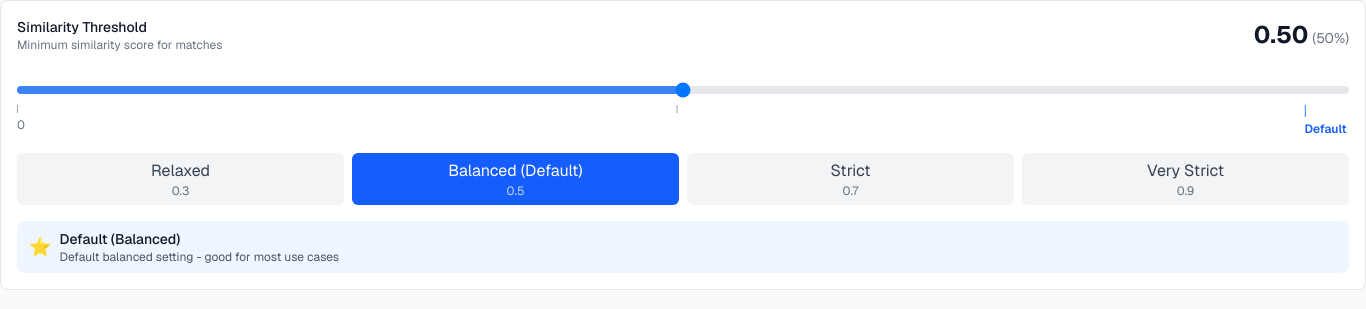
it: SimilarityThresholdSlider › Edge Cases › handles rapid value changes
Set the slider to "0.1" at (157, 90), box 17,86 -> 1349,94
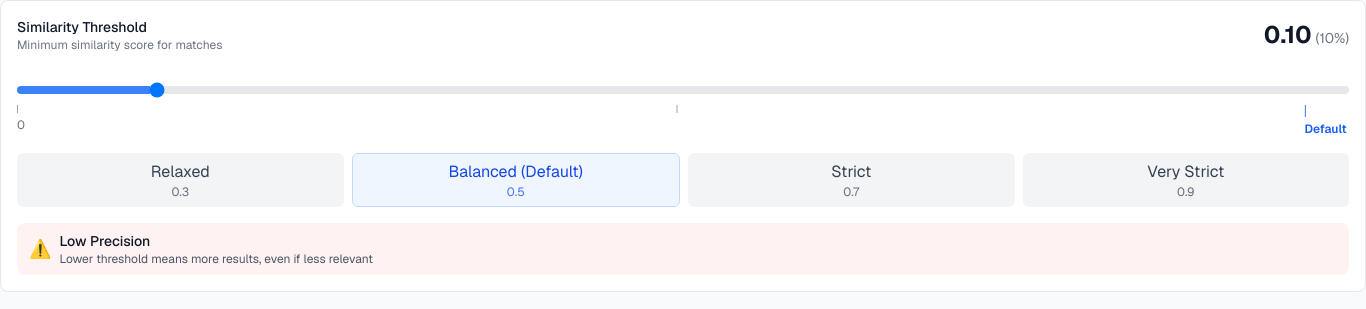
Set the slider to "0.2" at (288, 90), box 17,86 -> 1349,94
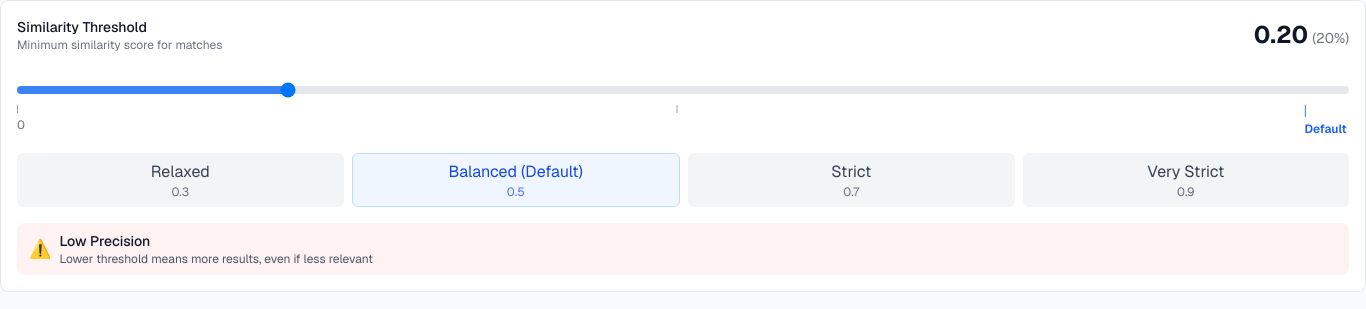
Set the slider to "0.3" at (420, 90), box 17,86 -> 1349,94
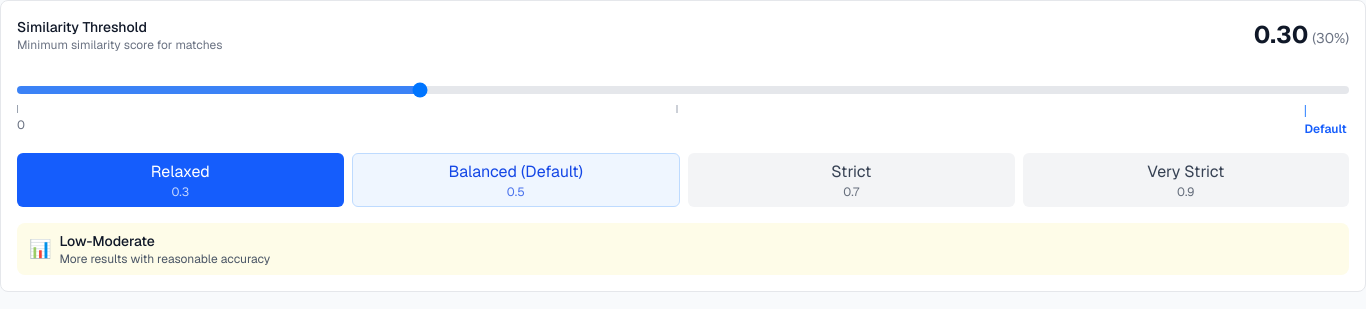
Result: the text "0.30" is shown at 1254,19 -> 1308,50
